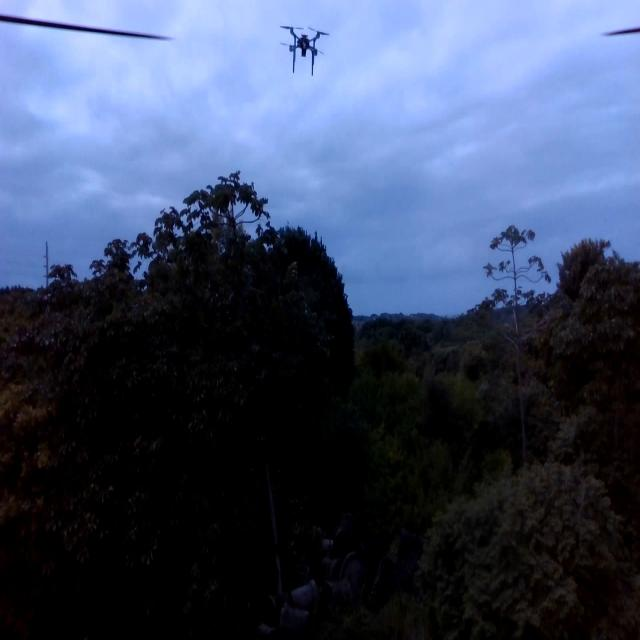-uav-: (276, 11, 334, 82)
